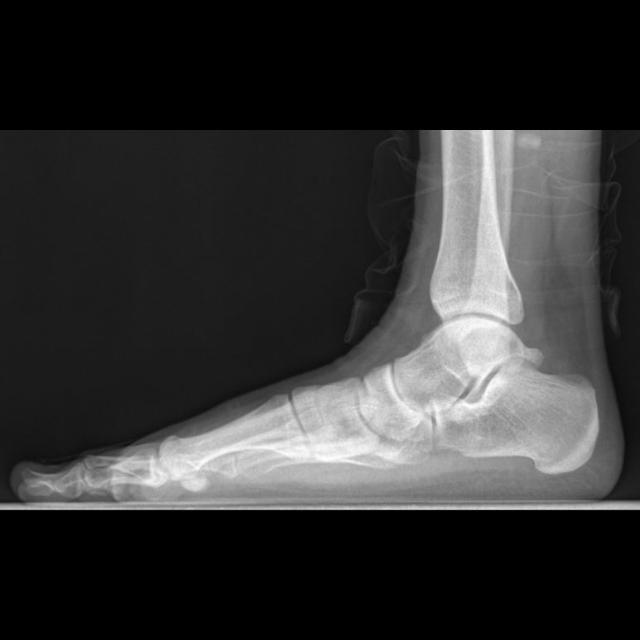a: (434, 356, 598, 473)
b: (356, 362, 420, 441)
c: (157, 394, 313, 478)
